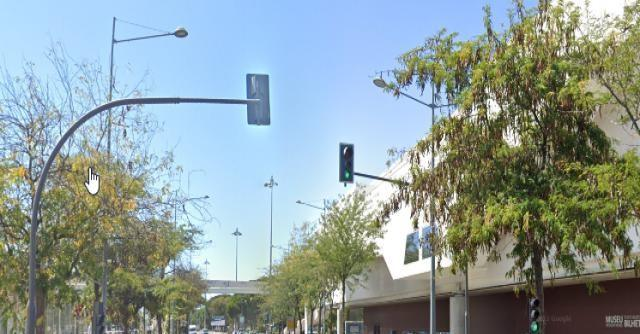green_light: (339, 143, 354, 182), (530, 298, 540, 334)
